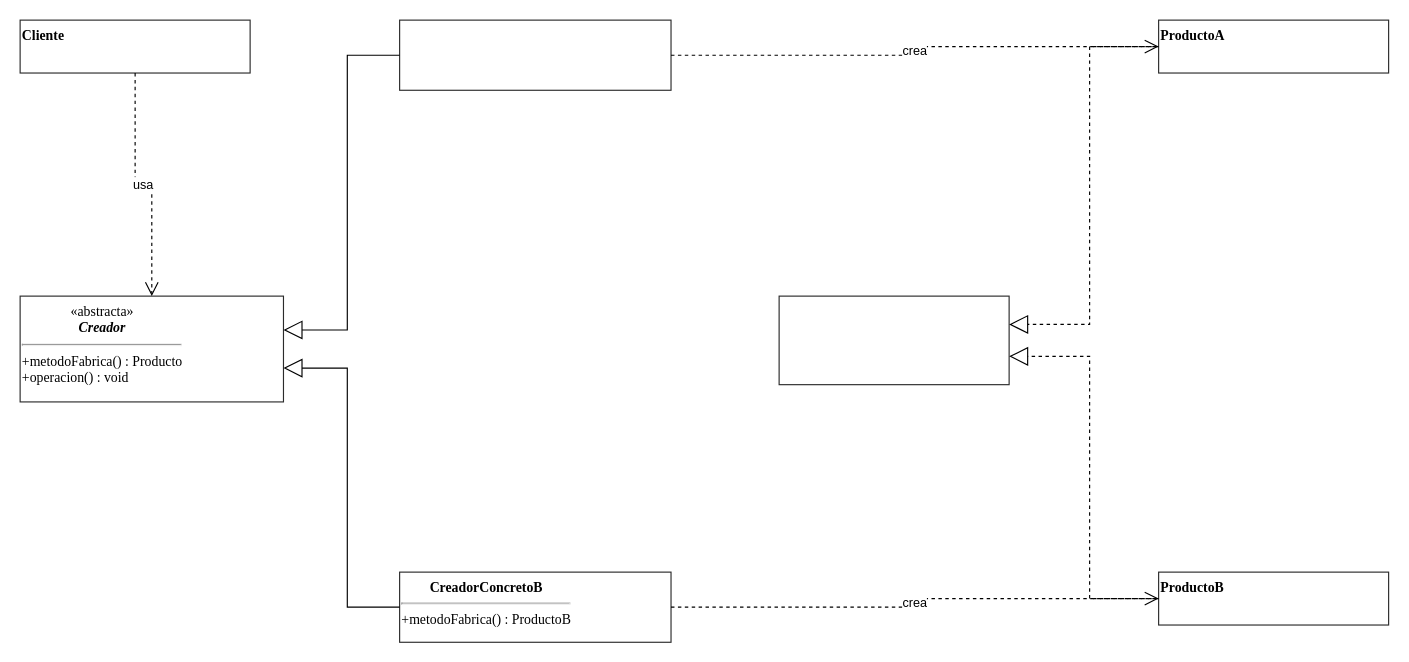
The diagram is 1409 pixels wide and 662 high, and some of its shapes have lost their labels. Here are the shapes that lost their labels. From the top down, the centre of each, then its label:
At (x=534, y=54): "CreadorConcretoA +metodoFabrica() : ProductoA".
At (x=893, y=340): "«interface» Producto +operacion() : void".
